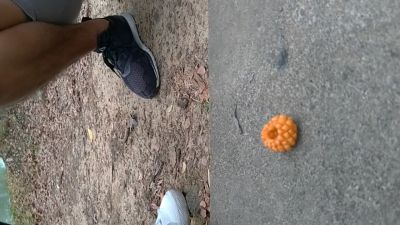eggs: (261, 115, 297, 151)
